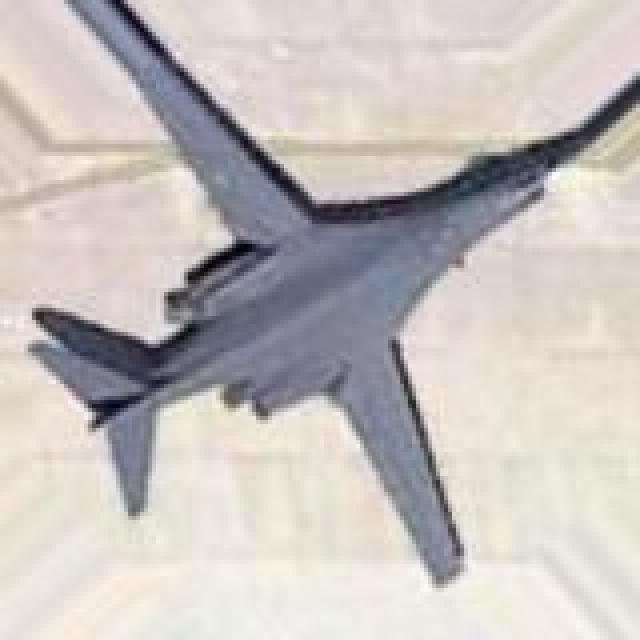B-1_TopDown: (24, 0, 636, 588)
